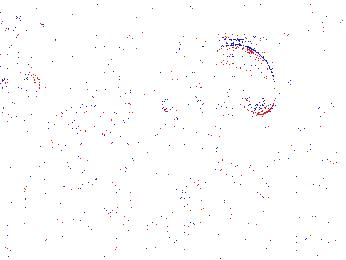moon jellyfish: (54, 105, 141, 171), (198, 44, 278, 115), (113, 40, 201, 95), (177, 97, 226, 175), (1, 67, 41, 123)
